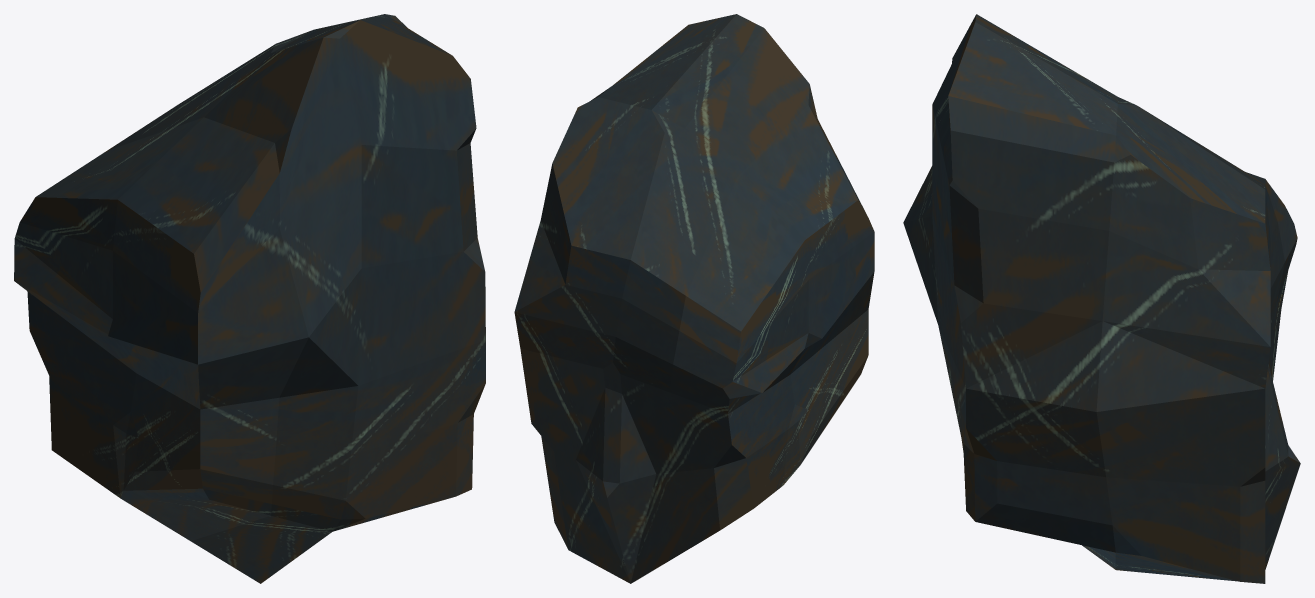
File: rocked.glb
3 renders of one model, left to right at view 1: azimuth 30°, elevation 25°; view 2: azimuth 150°, elevation 25°; view 3: azimuth 270°, elevation 25°, orthographic. The views are drawn at different scales.
Visible parts, largest first — view 1: Sphere; view 2: Sphere; view 3: Sphere.
Boxes of the visible parts, box(x1,y1,x2,y2) form: Sphere: box(14, 14, 485, 583); Sphere: box(514, 14, 874, 583); Sphere: box(903, 14, 1300, 583).
Size of the model in its own units: 2.54 by 4.12 by 2.66.
1 material, 1 textured.
